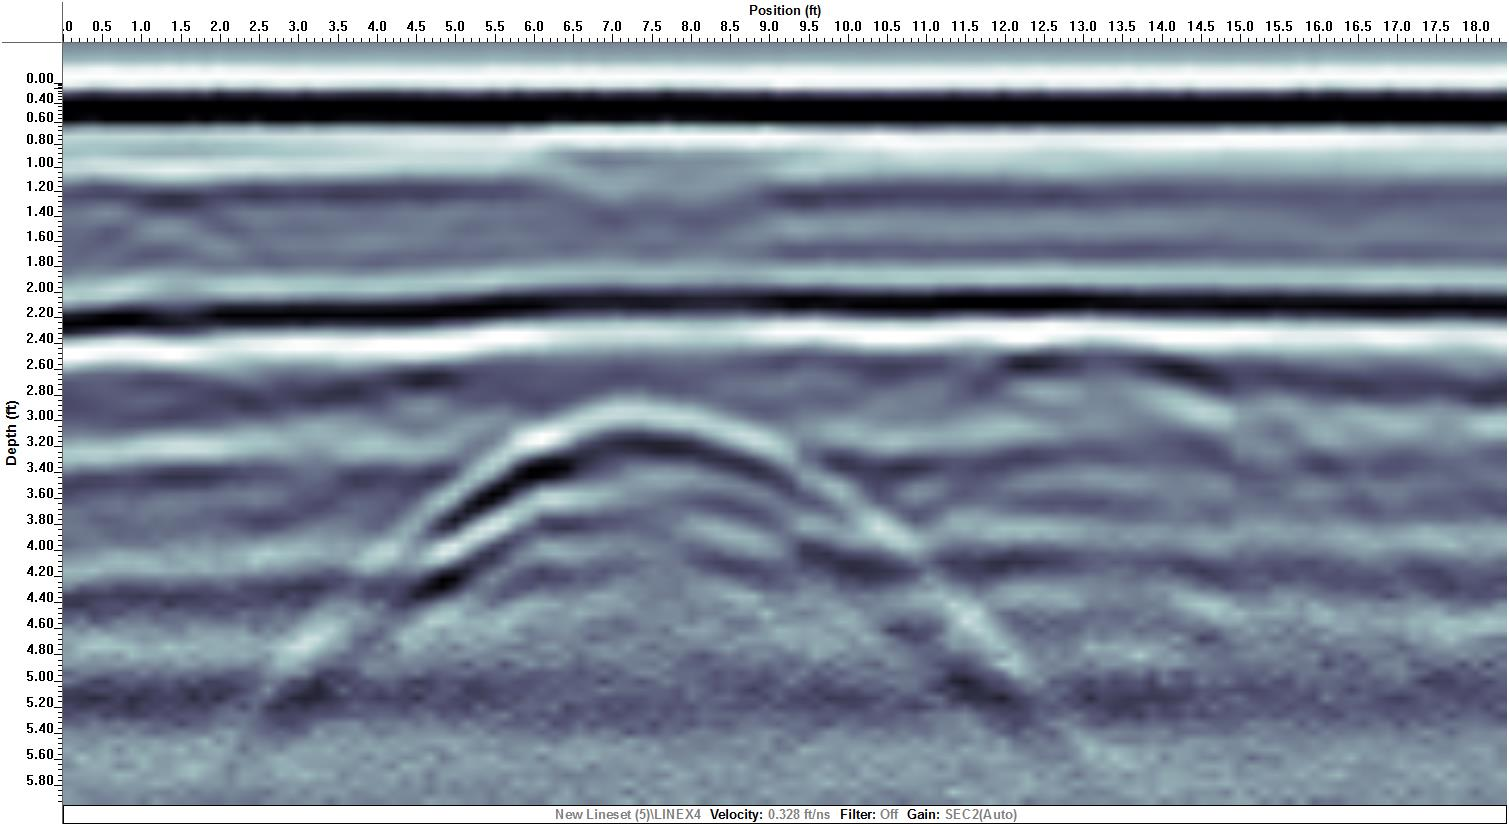hyperbola: (262, 389, 1037, 696)
